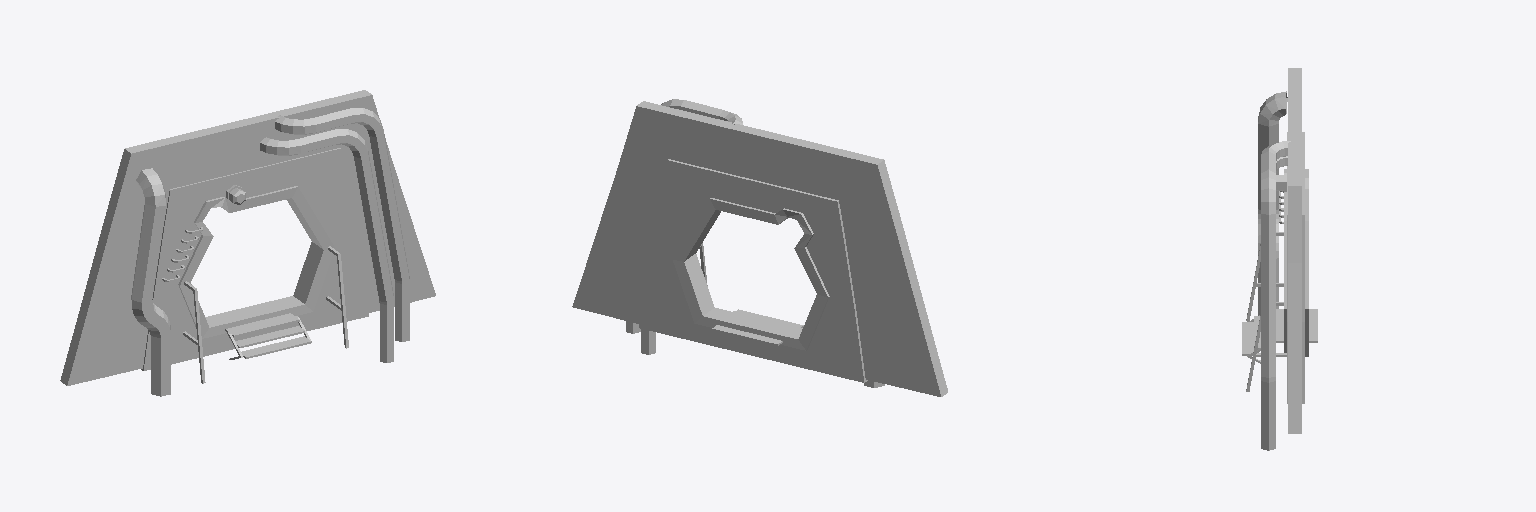
Rendered from door frame.obj.
3 views of the same model, side by side, from view 1: azimuth 30°, elevation 25°; view 2: azimuth 150°, elevation 25°; view 3: azimuth 270°, elevation 25° (orthographic).
Parts seen in each view (by area): view 1: Plane, Cylinder.002, Cube, Cube.004, Cube.003; view 2: Plane, Cube, Cylinder.002, Cube.004; view 3: Cylinder.002, Plane, Cube, Cube.004, Cube.003.
Boxes of the visible parts, x1=… form: Plane: x1=60, y1=90, x2=435, y2=385; Cylinder.002: x1=131, y1=108, x2=409, y2=396; Cube: x1=178, y1=186, x2=334, y2=338; Cube.004: x1=224, y1=301, x2=311, y2=359; Cube.003: x1=183, y1=246, x2=348, y2=383; Plane: x1=572, y1=101, x2=947, y2=396; Cube: x1=673, y1=198, x2=829, y2=350; Cylinder.002: x1=626, y1=99, x2=884, y2=387; Cube.004: x1=712, y1=309, x2=803, y2=345; Cylinder.002: x1=1258, y1=91, x2=1290, y2=450; Plane: x1=1287, y1=68, x2=1304, y2=433; Cube: x1=1283, y1=169, x2=1308, y2=356; Cube.004: x1=1242, y1=309, x2=1317, y2=363; Cube.003: x1=1246, y1=232, x2=1286, y2=391.
Bounding box in the file's own units: 6.6 × 4.45 × 1.19.